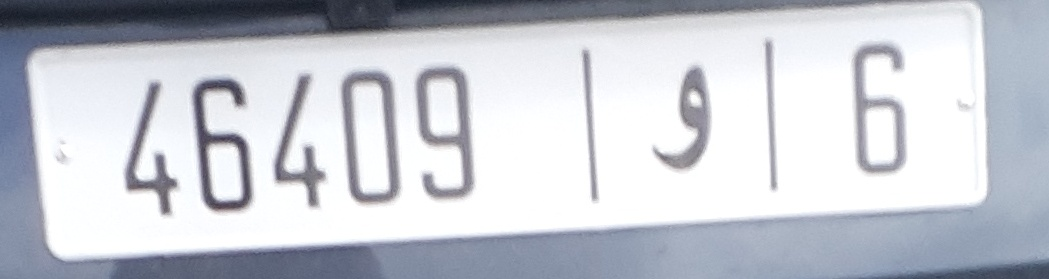0: (337, 61, 405, 212)
4: (263, 53, 333, 212), (114, 73, 183, 228)
6: (834, 37, 916, 184), (186, 64, 255, 220)
9: (412, 56, 481, 203)
waw: (642, 56, 729, 183)
